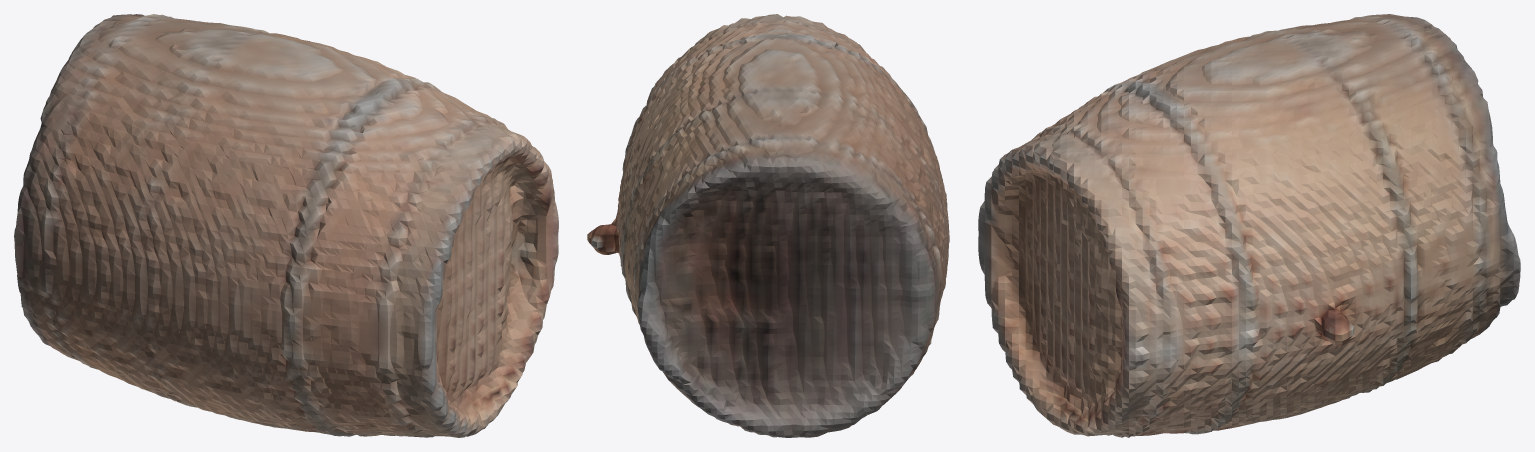
File: barrel.glb
3 renders of one model, left to right at view 1: azimuth 30°, elevation 25°; view 2: azimuth 150°, elevation 25°; view 3: azimuth 270°, elevation 25°, orthographic. The views are drawn at different scales.
Visible parts, largest first — view 1: geometry_0; view 2: geometry_0; view 3: geometry_0.
Part boxes in pixels (bbox=[...]): geometry_0: bbox=[14, 14, 558, 437]; geometry_0: bbox=[587, 14, 949, 437]; geometry_0: bbox=[978, 14, 1520, 437].
Size of the model in its own units: 0.9829 by 0.7528 by 1.08.
